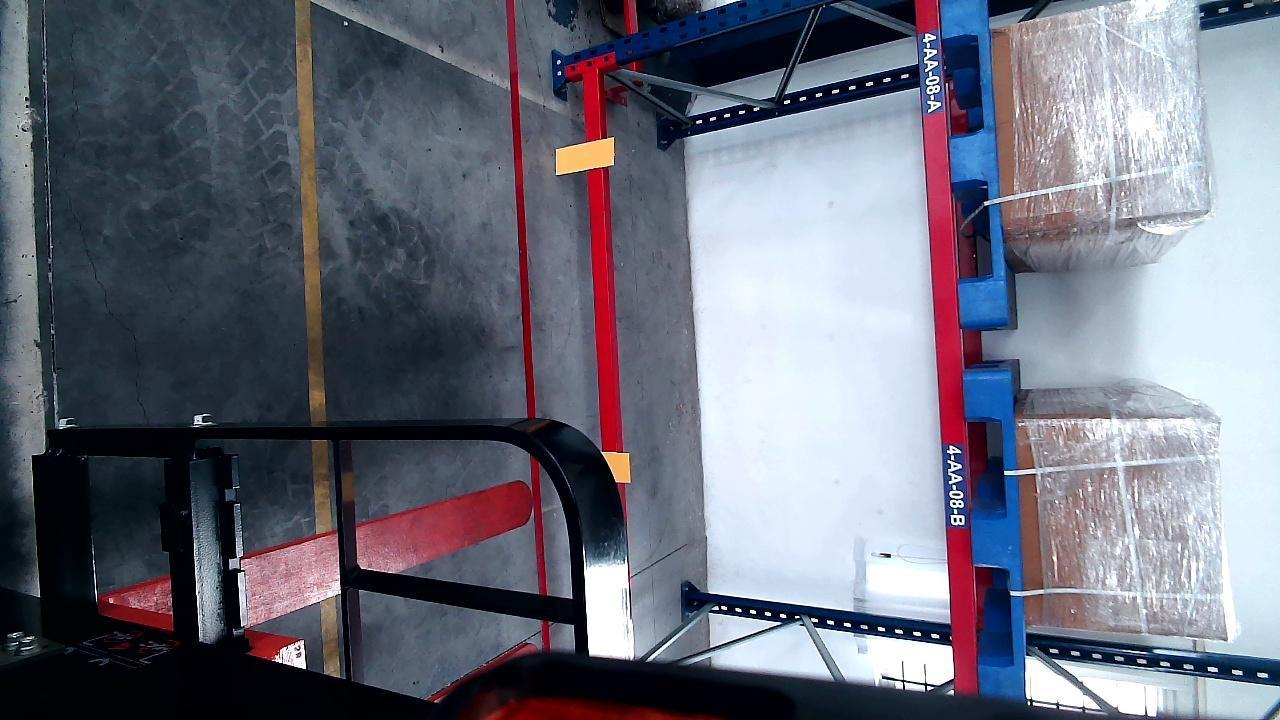h_rack: (917, 0, 976, 695), (584, 63, 623, 458)
orange_strip: (555, 137, 614, 173)
red_line: (507, 0, 538, 422)
small_pallet: (938, 2, 1021, 326), (964, 368, 1027, 687)
yellow_line: (297, 0, 324, 414)
